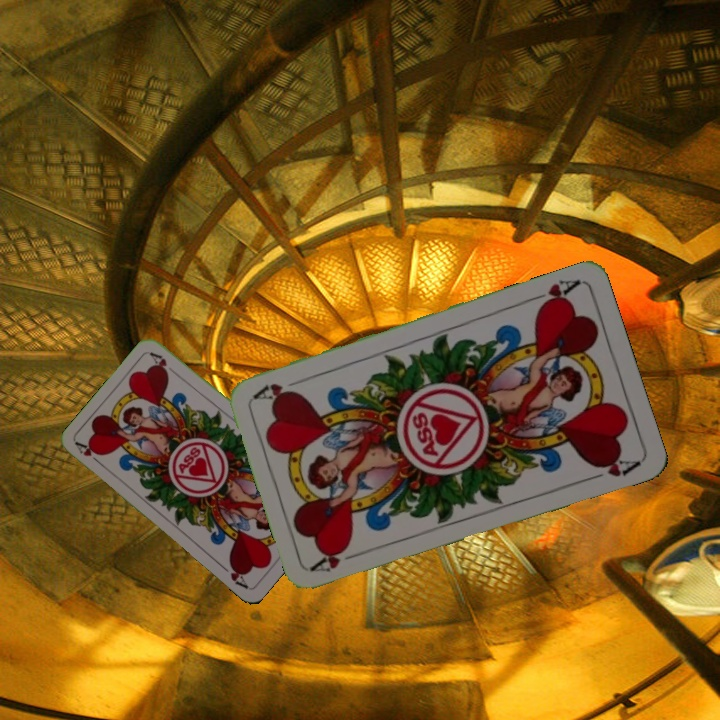HA: (525, 275, 583, 312), (308, 542, 366, 575), (72, 438, 106, 469)
